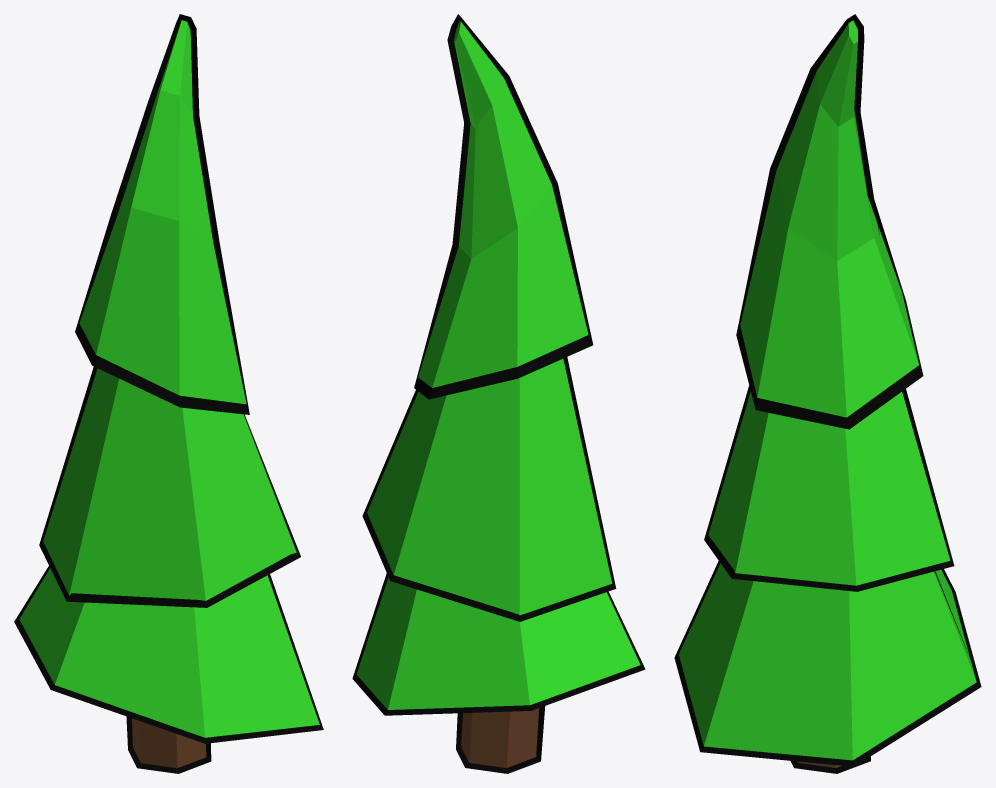
The model's file is tree_2.fbx.
The picture shows the model from 3 angles, left to right: view 1: azimuth 30°, elevation 25°; view 2: azimuth 150°, elevation 25°; view 3: azimuth 270°, elevation 25°; orthographic projection. The views are drawn at different scales.
Visible parts, largest first — view 1: tree_2, tree_2_outliner; view 2: tree_2, tree_2_outliner; view 3: tree_2, tree_2_outliner.
Boxes of the visible parts, box(x1,y1,x2,y2) form: tree_2: box(19, 20, 319, 768); tree_2_outliner: box(14, 14, 323, 773); tree_2: box(356, 21, 640, 767); tree_2_outliner: box(352, 14, 645, 773); tree_2: box(679, 20, 976, 767); tree_2_outliner: box(674, 14, 981, 773).
Size of the model in its own units: 56.71 by 150 by 55.58.
